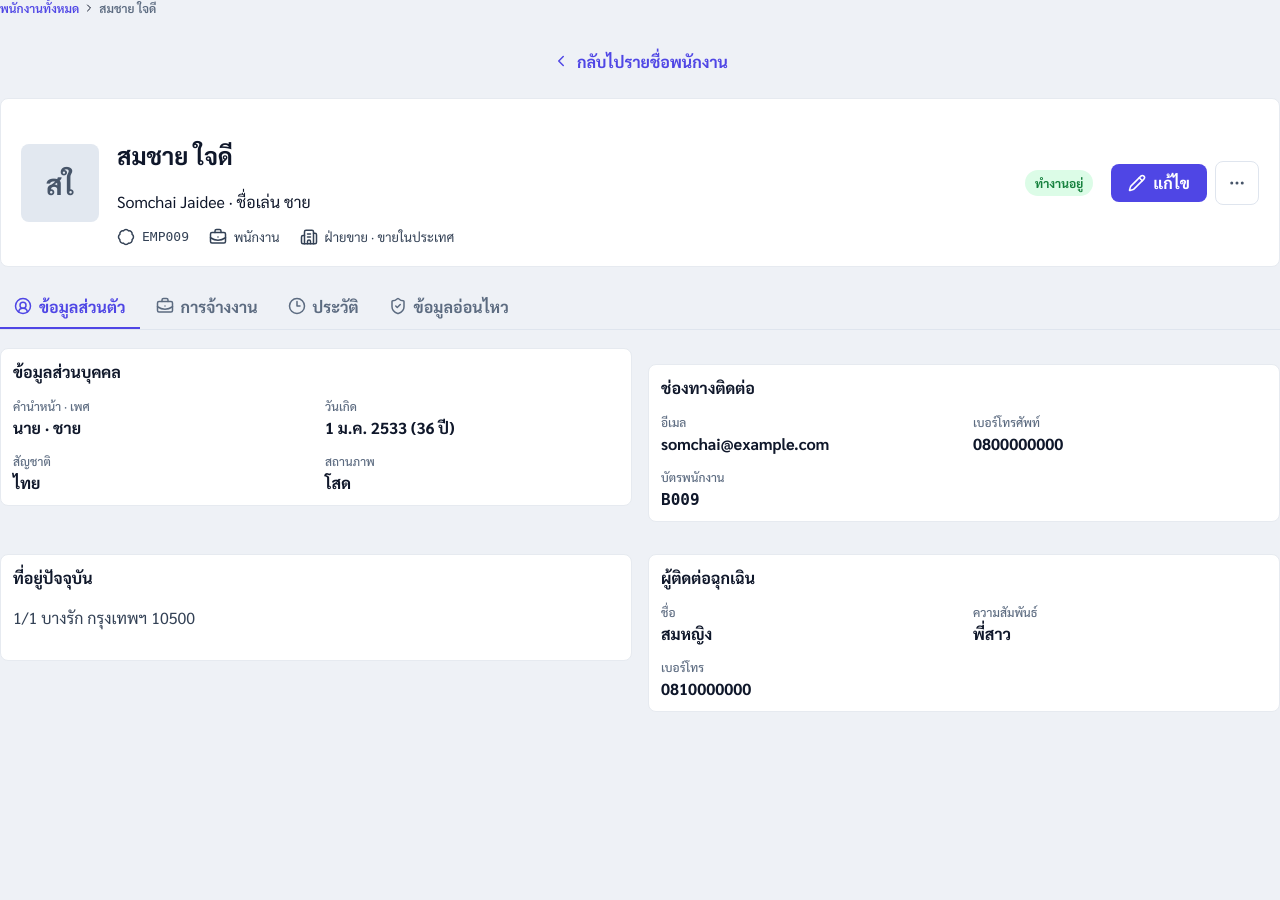
EmployeeDetailPage — ตั้งรหัสผ่านชั่วคราว (issue #744) › shows the temporary password once confirmed, with the one-time warning
Step 1. Click the button named "การดำเนินการเพิ่มเติม" → [1237, 183], box x1=1215 y1=161 x2=1259 y2=205
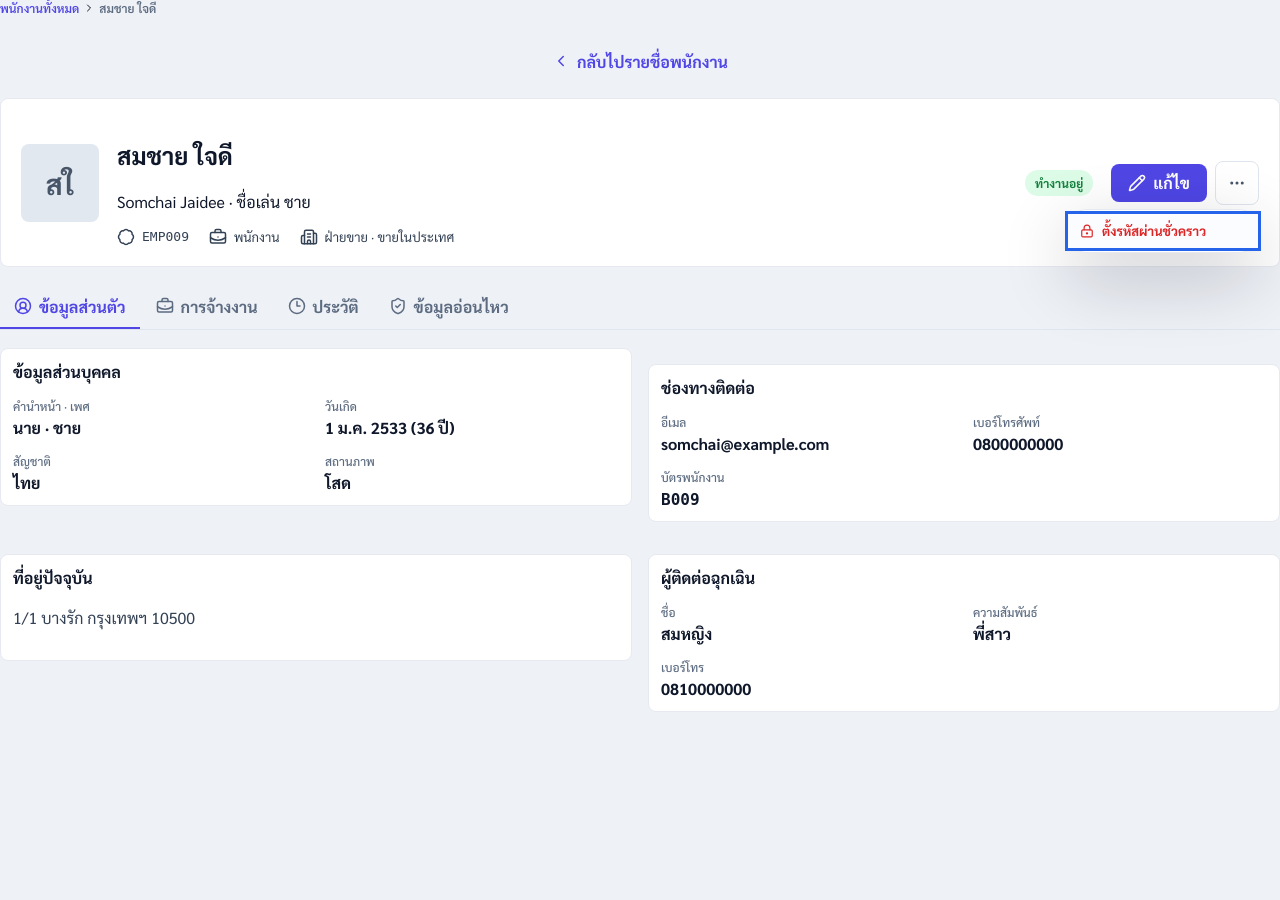
Step 2. Click the menu item "ตั้งรหัสผ่านชั่วคราว" → [1163, 231], box x1=1068 y1=214 x2=1258 y2=248
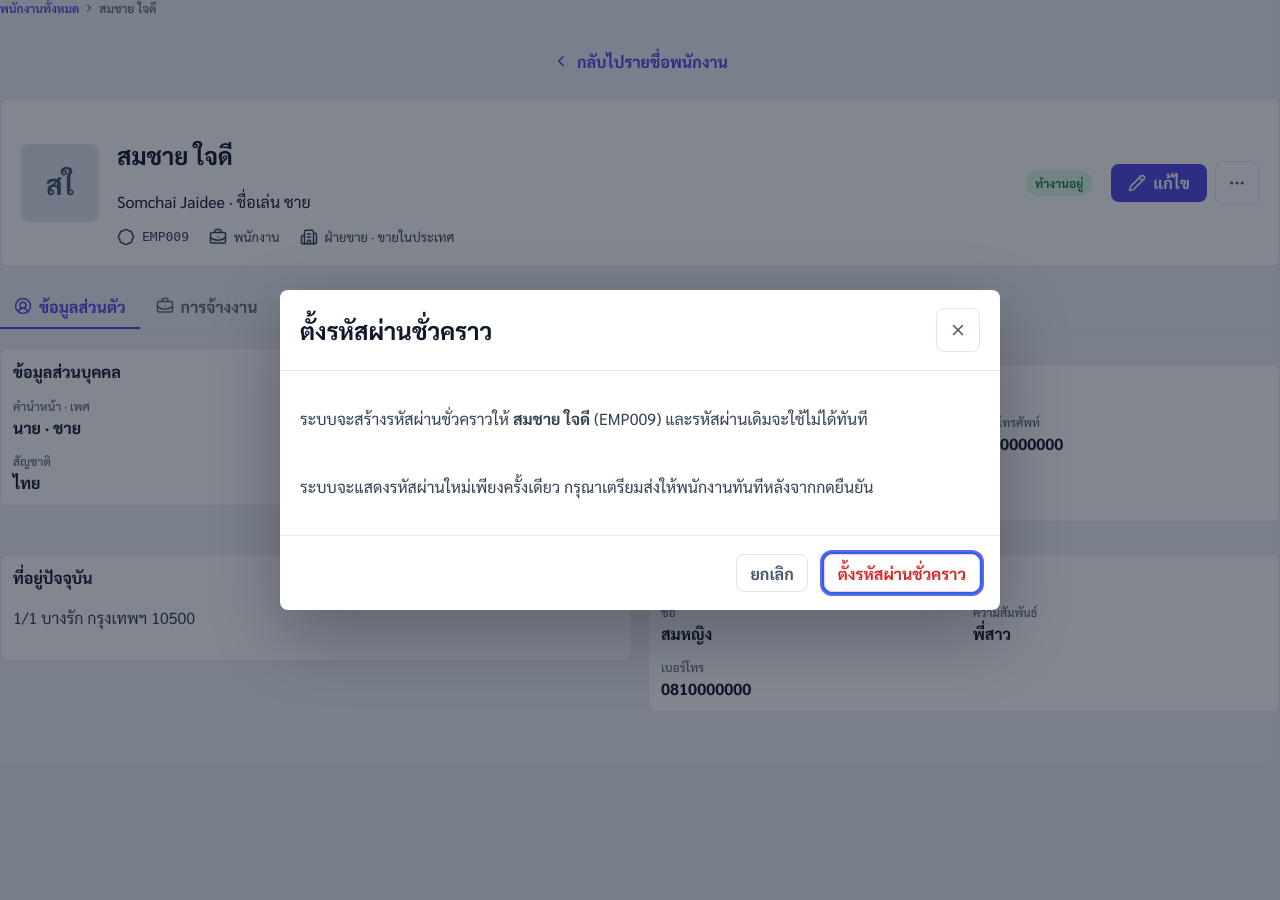
Step 3. Click the button "ตั้งรหัสผ่านชั่วคราว" → [902, 573], box x1=824 y1=554 x2=980 y2=592
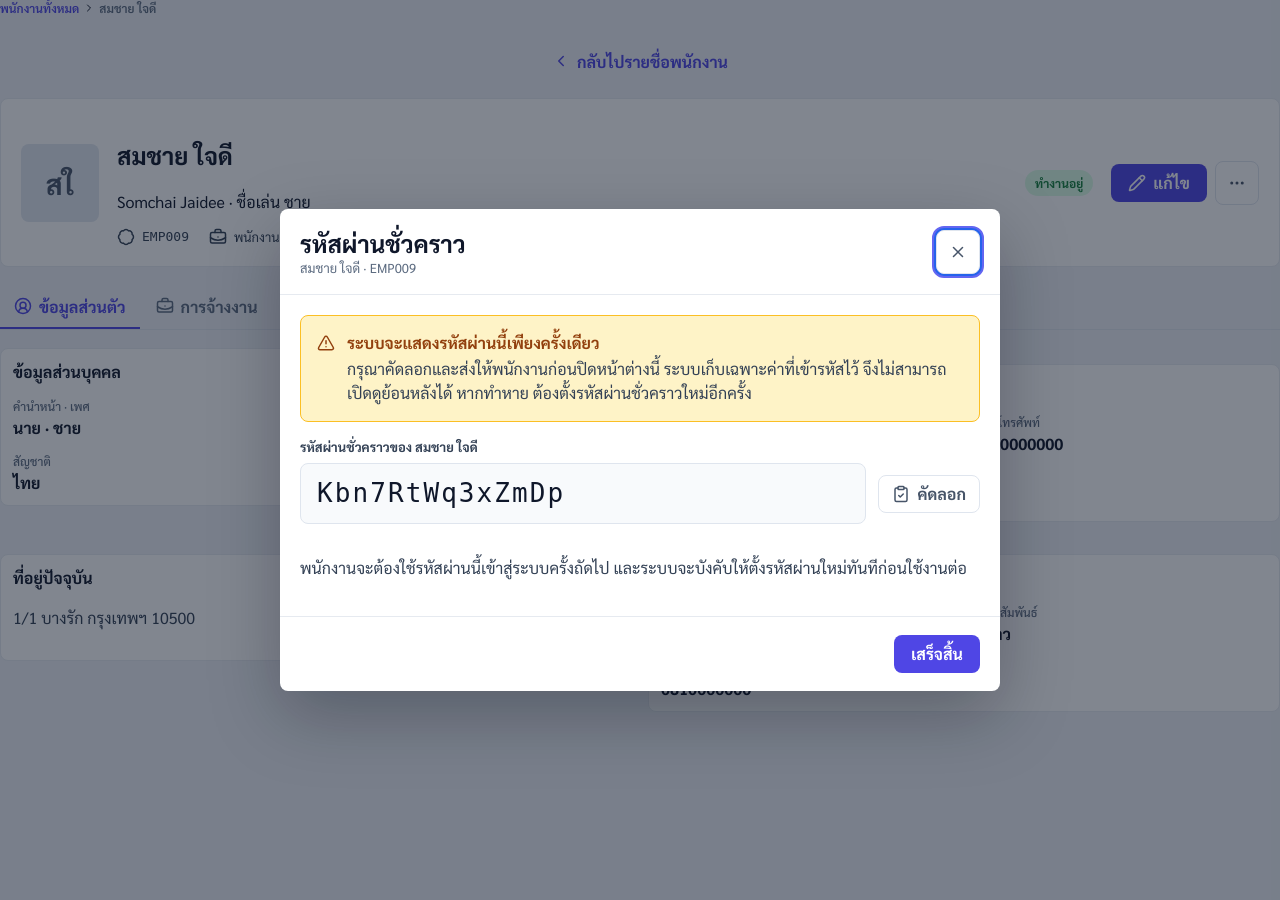
Now the text with test id "temporary-password-value" reads "Kbn7RtWq3xZmDp", box x1=317 y1=478 x2=565 y2=508
Now the text "ระบบจะแสดงรหัสผ่านนี้เพียงครั้งเดียว" is shown, box x1=347 y1=332 x2=600 y2=353
Now the text "บังคับให้ตั้งรหัสผ่านใหม่" is shown, box x1=300 y1=557 x2=967 y2=578
